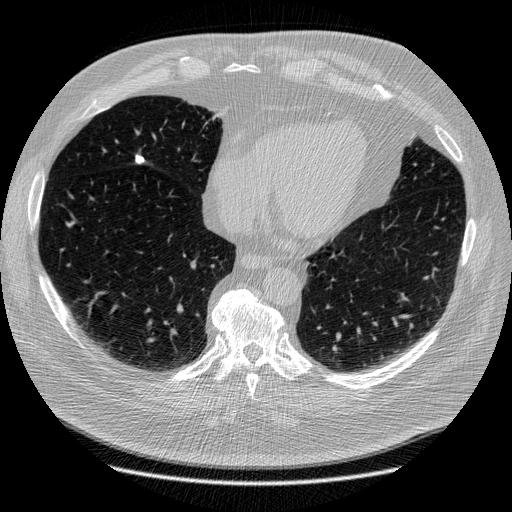nodule: (131, 151, 145, 165)
